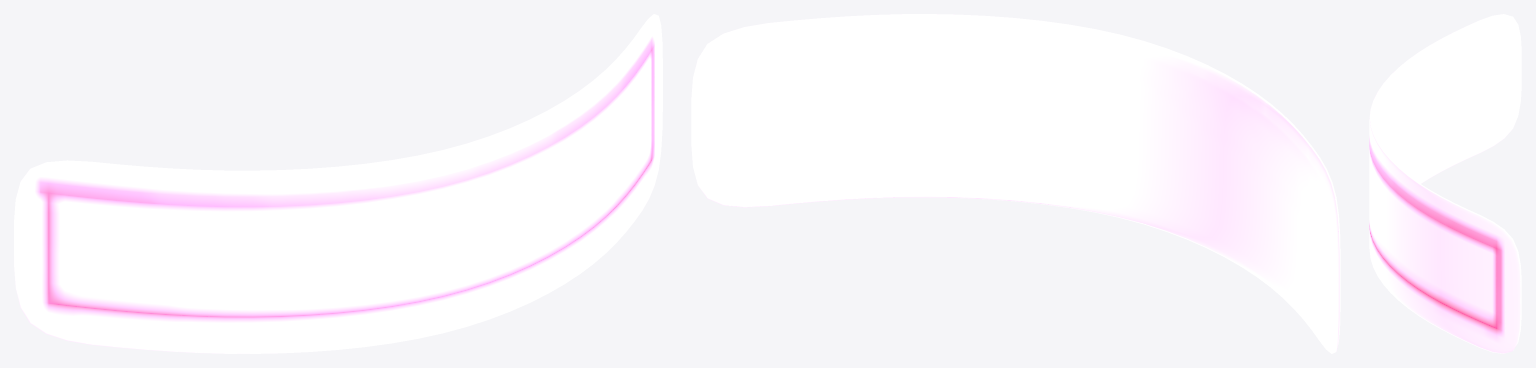
File: Glass.fbx
3 views of the same model, side by side, from view 1: azimuth 30°, elevation 25°; view 2: azimuth 150°, elevation 25°; view 3: azimuth 270°, elevation 25° (orthographic). The views are drawn at different scales.
Parts seen in each view (by area): view 1: m_Glass_Mutas_FM; view 2: m_Glass_Mutas_FM; view 3: m_Glass_Mutas_FM.
Part boxes in pixels (x1=…): m_Glass_Mutas_FM: x1=14, y1=14, x2=662, y2=353; m_Glass_Mutas_FM: x1=691, y1=14, x2=1340, y2=353; m_Glass_Mutas_FM: x1=1369, y1=14, x2=1521, y2=353.
Size of the model in its own units: 38.93 by 10.49 by 10.93.
